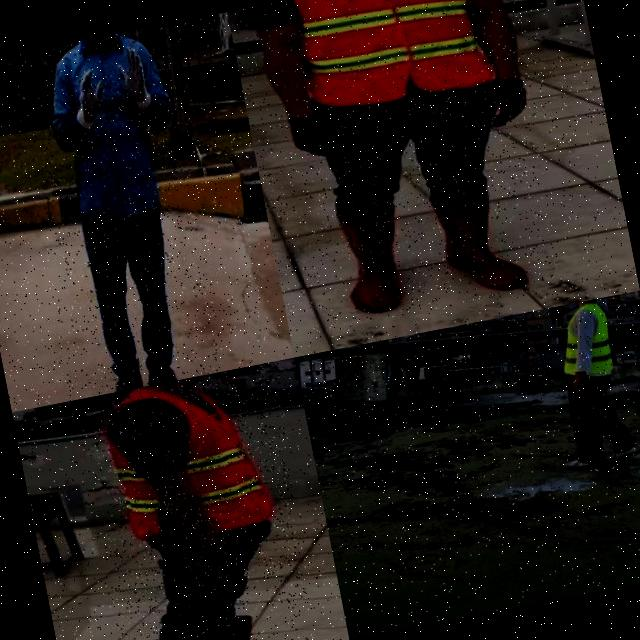boots: (428, 183, 538, 304), (328, 206, 413, 320), (204, 600, 300, 640), (142, 620, 279, 640), (98, 364, 146, 394), (143, 359, 188, 386), (558, 452, 606, 474), (602, 442, 640, 466)
vest: (90, 365, 288, 555), (273, 0, 506, 126), (550, 298, 620, 382)
